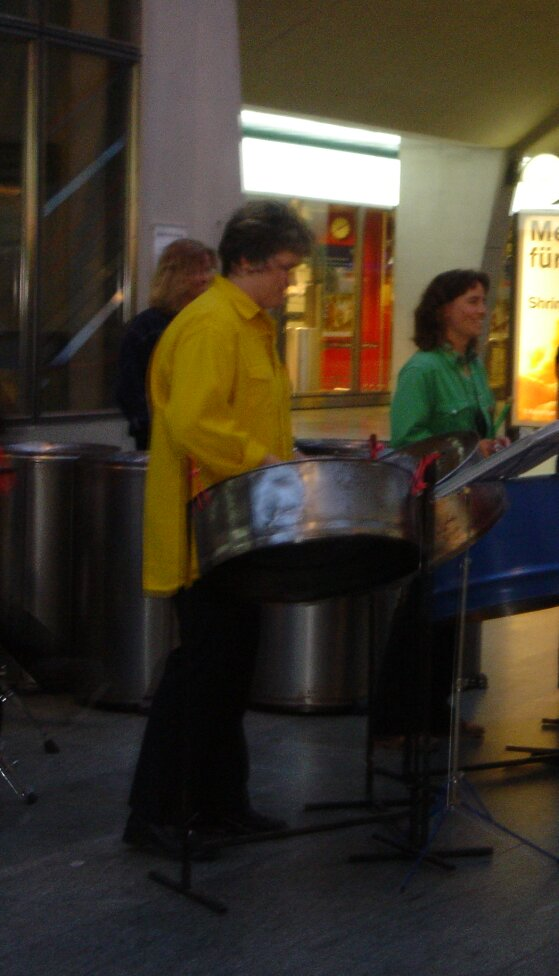person: (132, 202, 315, 851), (388, 266, 517, 444)
